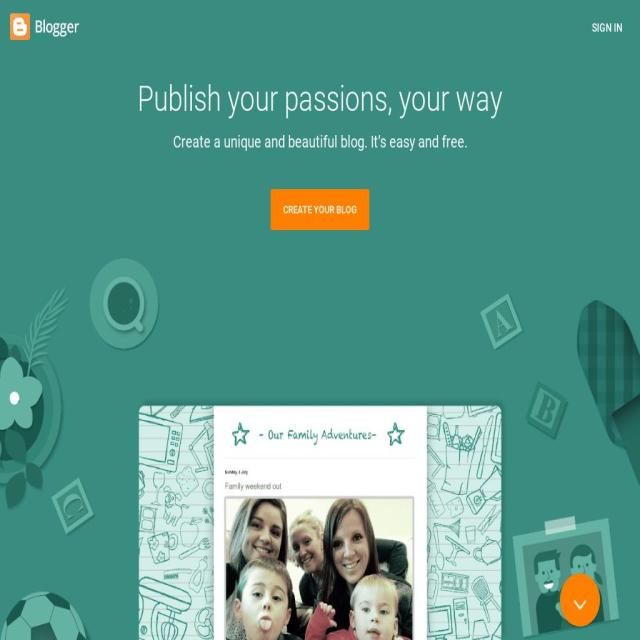button: (270, 189, 370, 231), (560, 573, 600, 627), (10, 12, 82, 41), (582, 11, 632, 44)
heading: (32, 80, 608, 119)
image: (0, 286, 640, 512), (127, 387, 512, 640), (512, 516, 621, 640), (575, 299, 640, 493), (89, 258, 160, 352), (0, 591, 96, 640), (524, 380, 570, 442), (51, 478, 96, 538), (480, 294, 525, 352), (32, 13, 82, 41), (10, 13, 30, 41), (574, 591, 586, 608)
text: (32, 128, 608, 157), (592, 20, 622, 34)
